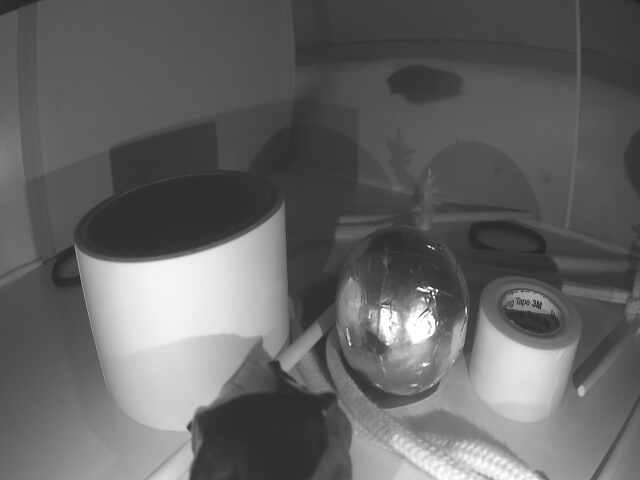Dead: (190, 389, 344, 480)
Live: (333, 228, 472, 397)
